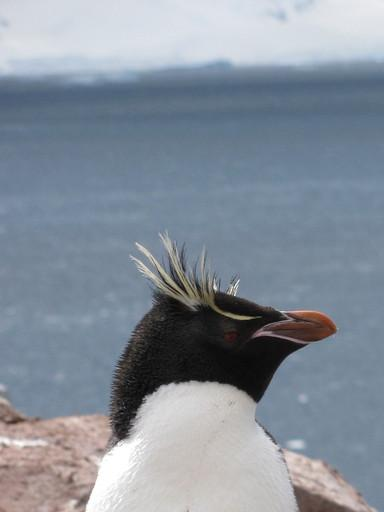Southern Rockhopper Penguin: (32, 212, 366, 512)
